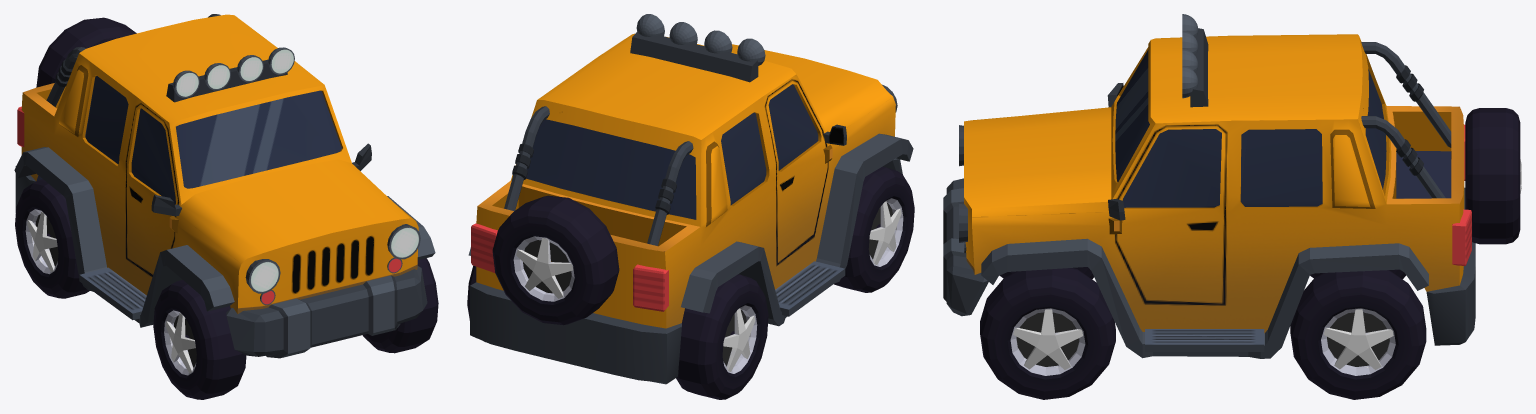
Rendered from VHC0310007.FBX.
3 views of the same model, side by side, from view 1: azimuth 30°, elevation 25°; view 2: azimuth 150°, elevation 25°; view 3: azimuth 270°, elevation 25° (orthographic). The views are drawn at different scales.
Visible parts, largest first — view 1: smVHC0310007; view 2: smVHC0310007; view 3: smVHC0310007.
Boxes of the visible parts, x1,y1,x2,y2 form: smVHC0310007: (14,14,438,399); smVHC0310007: (467,14,914,399); smVHC0310007: (943,14,1521,399).
Bounding box in the file's own units: 1.86 × 1.98 × 3.48.
Materials: 1 (1 with a texture image).
